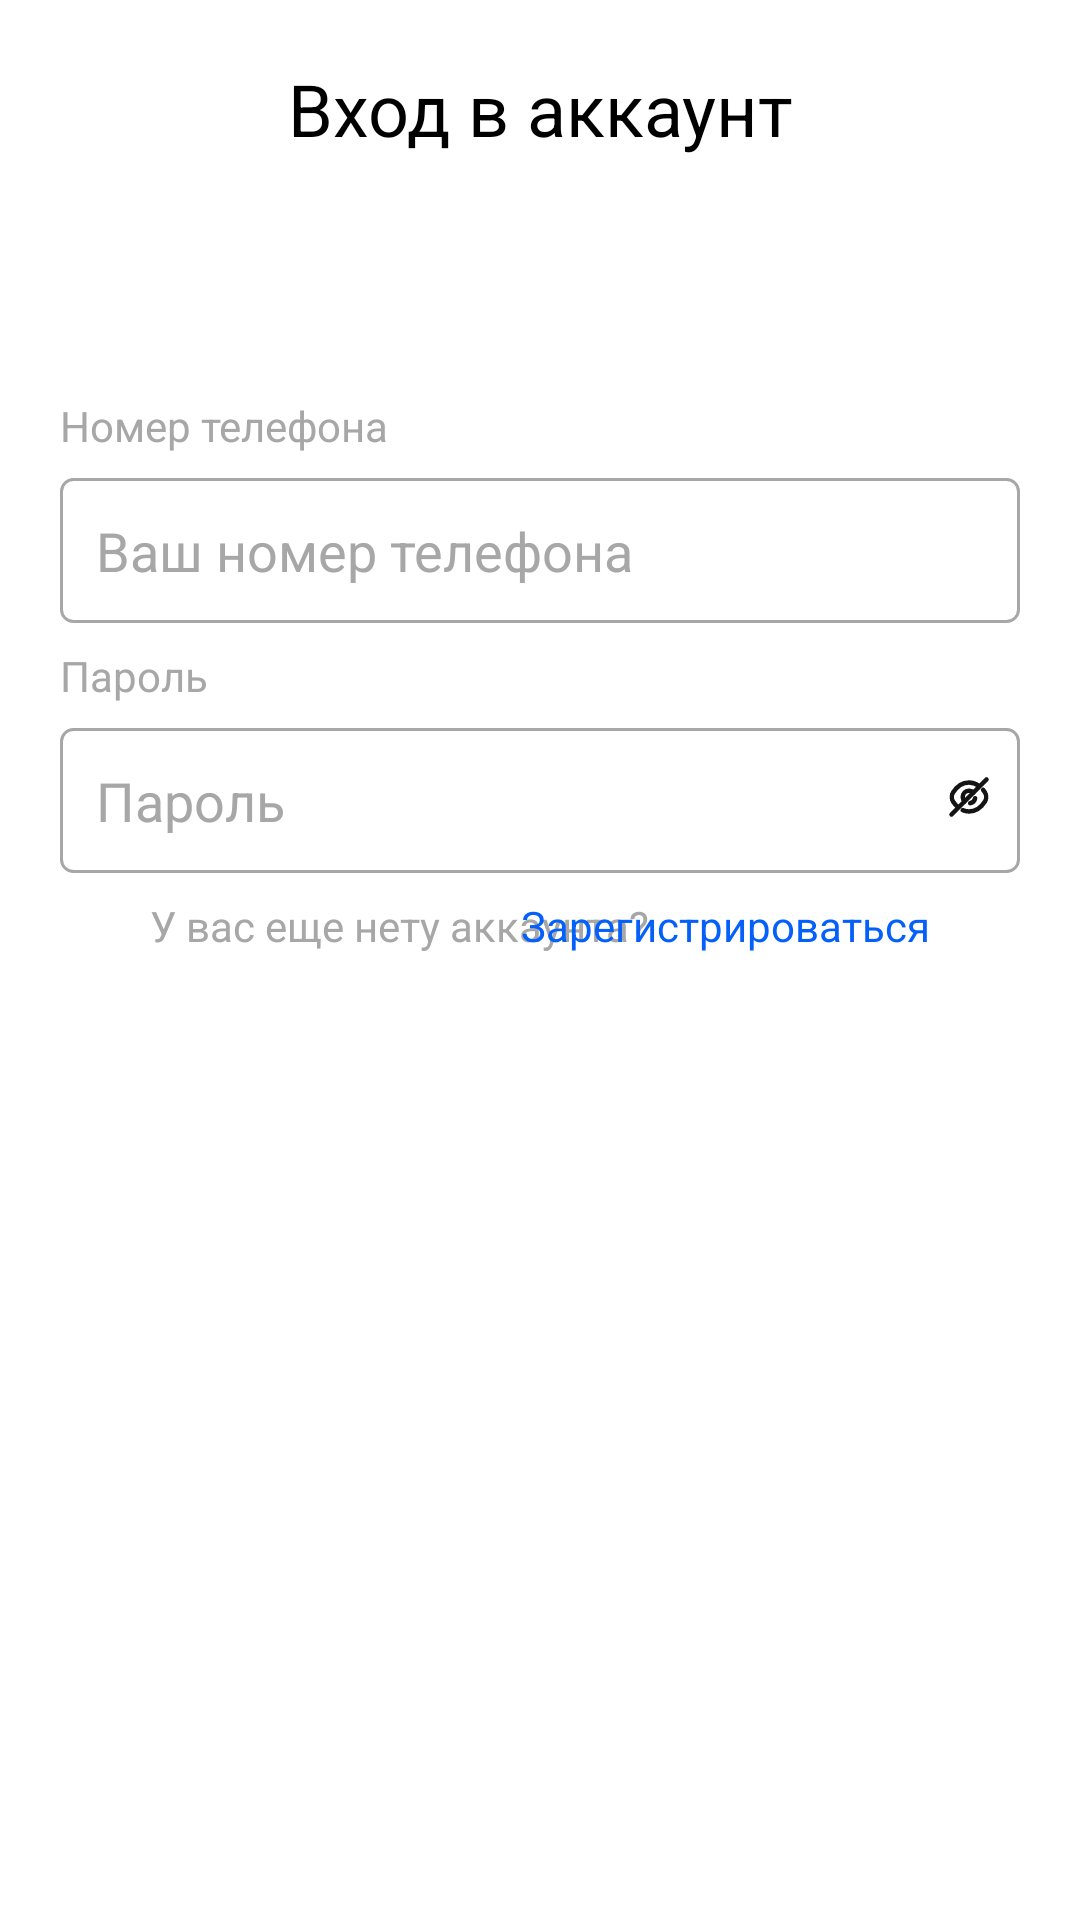

Icons on this 1080px x 1920px Android screen, each with its box as (x1,y1,x2,y2):
eye: (949,777,989,817)
